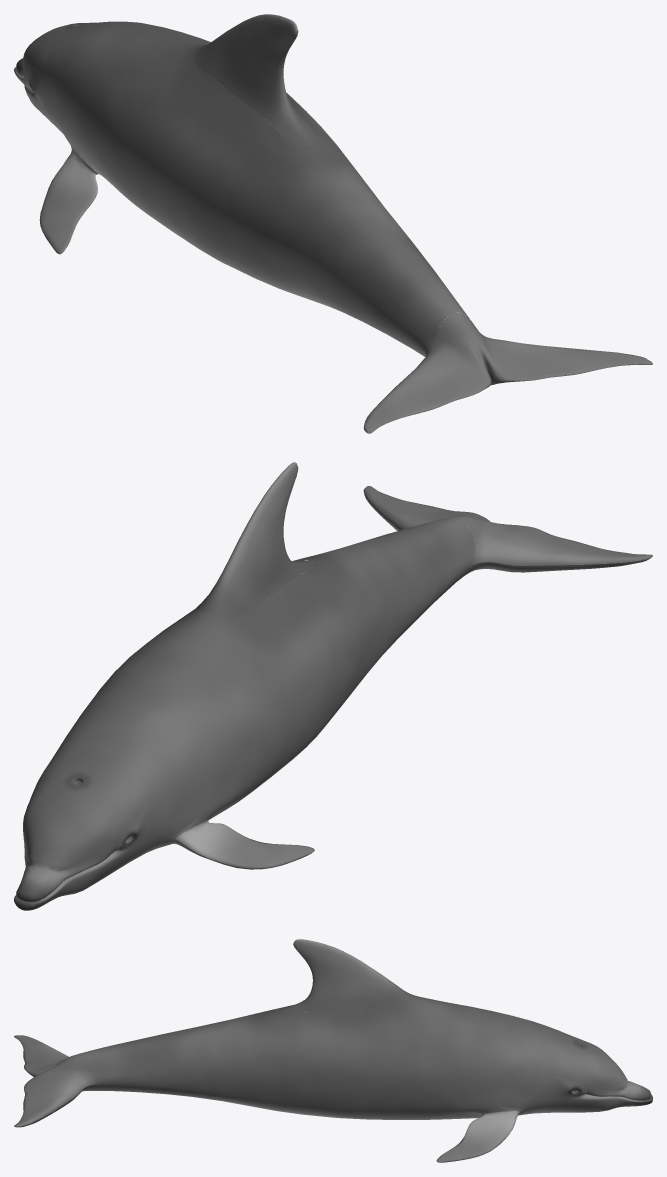
File: Dolphin.glb
3 renders of one model, top to bottom at view 1: azimuth 30°, elevation 25°; view 2: azimuth 150°, elevation 25°; view 3: azimuth 270°, elevation 25°, orthographic. The views are drawn at different scales.
Parts seen in each view (by area): view 1: dolphin; view 2: dolphin; view 3: dolphin.
Part boxes in pixels (bbox=[...]): dolphin: bbox=[14, 14, 652, 433]; dolphin: bbox=[14, 462, 652, 910]; dolphin: bbox=[14, 939, 652, 1162].
Size of the model in its own units: 1.23 by 1.16 by 3.67.
1 material, 1 textured.
